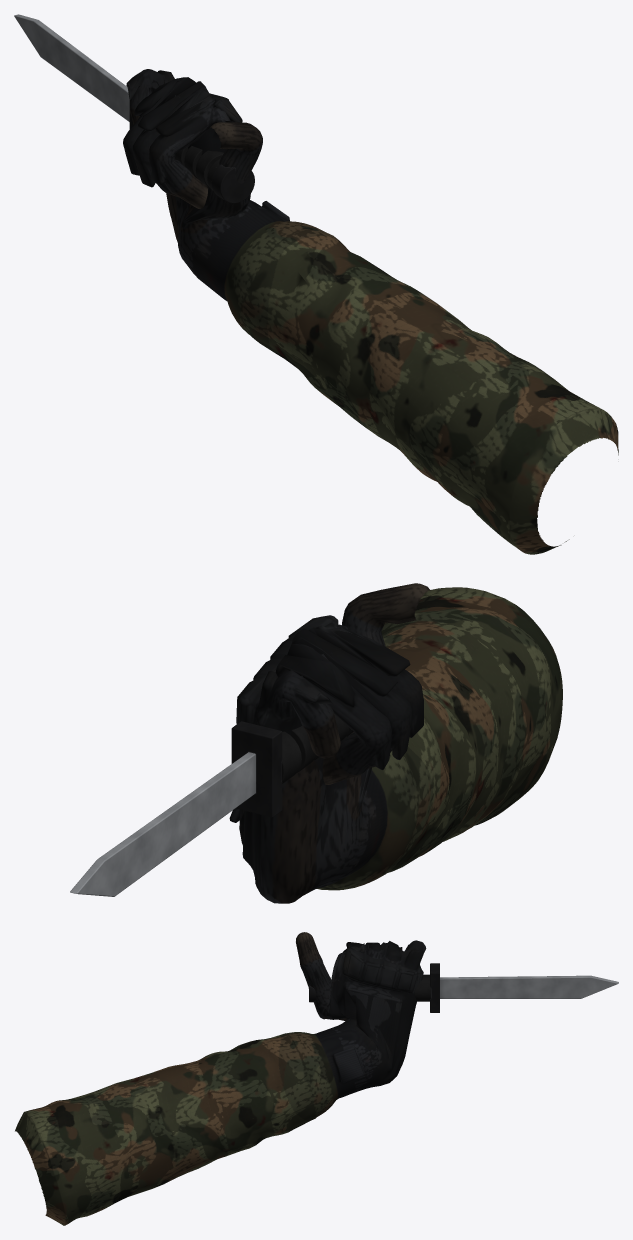
File: knife.gltf
3 renders of one model, top to bottom at view 1: azimuth 30°, elevation 25°; view 2: azimuth 150°, elevation 25°; view 3: azimuth 270°, elevation 25°, orthographic. The views are drawn at different scales.
Visible parts, largest first — view 1: Body; view 2: Body; view 3: Body.
Boxes of the visible parts, x1,y1,x2,y2 form: Body: (14,14,618,554); Body: (70,583,562,903); Body: (15,932,618,1225).
Size of the model in its own units: 0.211 by 0.2585 by 0.6046.
2 materials, 2 textured.
